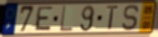7: (19, 5, 35, 35)
9: (79, 4, 96, 33)
E: (33, 6, 54, 33)
L: (59, 5, 74, 33)
S: (121, 4, 141, 32)
T: (106, 4, 120, 32)
